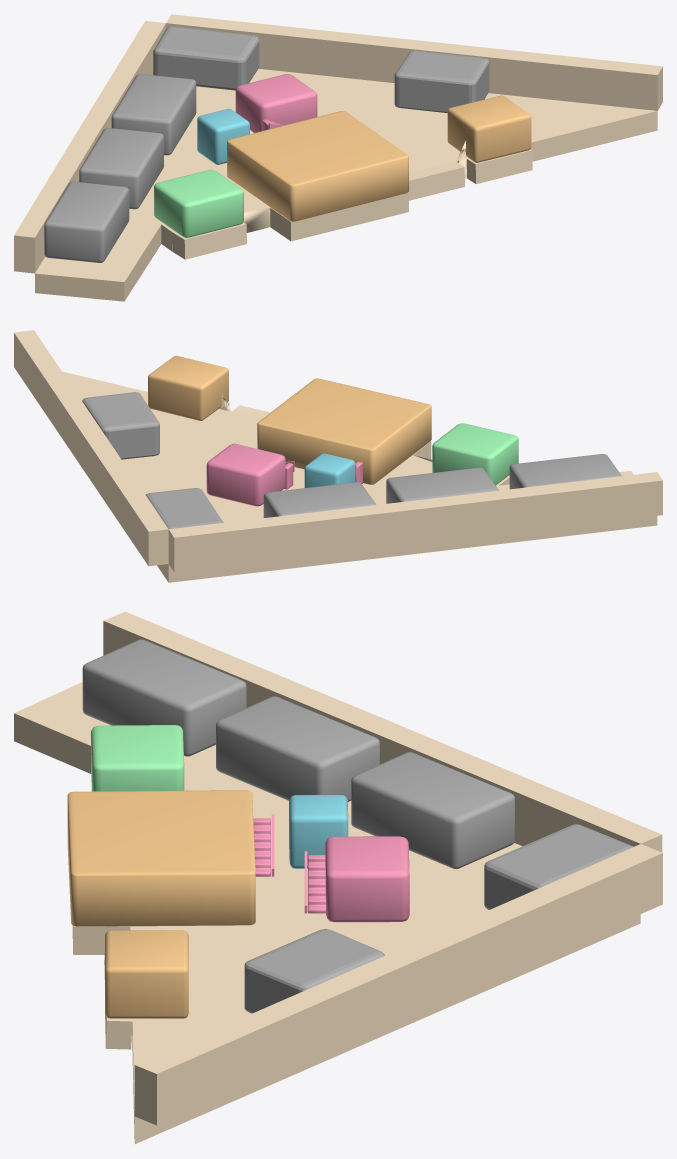
The model's file is First.glb.
The picture shows the model from 3 angles, top to bottom: view 1: azimuth 30°, elevation 25°; view 2: azimuth 150°, elevation 25°; view 3: azimuth 270°, elevation 25°; orthographic projection. The views are drawn at different scales.
Visible parts, largest first — view 1: 地面, リンクスホール, 生物実験室, 立方体, 立方体.001, 立方体.002, 科学実験室, 物理実験室, グローバルルーム, 立方体.003, 立方体.004; view 2: 地面, リンクスホール, グローバルルーム, 立方体.003, 立方体.002, 立方体.001, 科学実験室, 物理実験室, 生物実験室, 立方体, 立方体.004; view 3: 地面, リンクスホール, 物理実験室, 科学実験室, 生物実験室, グローバルルーム, 立方体.003, 立方体.002, 立方体.001, 立方体, 立方体.004, 立方体.005 (+1 smaller).
Part boxes in pixels (bbox=[...]): 地面: bbox=[14, 14, 662, 301]; リンクスホール: bbox=[227, 111, 408, 221]; 生物実験室: bbox=[44, 181, 129, 262]; 立方体: bbox=[153, 26, 259, 90]; 立方体.001: bbox=[394, 50, 489, 113]; 立方体.002: bbox=[154, 169, 243, 237]; 科学実験室: bbox=[79, 128, 163, 209]; 物理実験室: bbox=[111, 74, 196, 155]; グローバルルーム: bbox=[447, 95, 531, 162]; 立方体.003: bbox=[235, 74, 317, 132]; 立方体.004: bbox=[197, 108, 249, 164]; 地面: bbox=[14, 330, 662, 582]; リンクスホール: bbox=[257, 378, 431, 484]; グローバルルーム: bbox=[148, 355, 228, 420]; 立方体.003: bbox=[206, 443, 285, 506]; 立方体.002: bbox=[432, 423, 518, 485]; 立方体.001: bbox=[82, 392, 159, 459]; 科学実験室: bbox=[386, 467, 498, 503]; 物理実験室: bbox=[263, 482, 376, 517]; 生物実験室: bbox=[509, 454, 621, 489]; 立方体: bbox=[145, 488, 223, 529]; 立方体.004: bbox=[304, 453, 355, 487]; 地面: bbox=[14, 611, 662, 1143]; リンクスホール: bbox=[67, 790, 255, 926]; 物理実験室: bbox=[351, 752, 514, 868]; 科学実験室: bbox=[216, 696, 379, 801]; 生物実験室: bbox=[82, 639, 246, 756]; グローバルルーム: bbox=[105, 930, 188, 1018]; 立方体.003: bbox=[325, 836, 409, 922]; 立方体.002: bbox=[91, 725, 184, 791]; 立方体.001: bbox=[244, 928, 384, 1013]; 立方体: bbox=[484, 824, 633, 909]; 立方体.004: bbox=[289, 795, 348, 868]; 立方体.005: bbox=[304, 851, 325, 913].
Size of the model in its own units: 2.12 by 0.1738 by 1.26.
